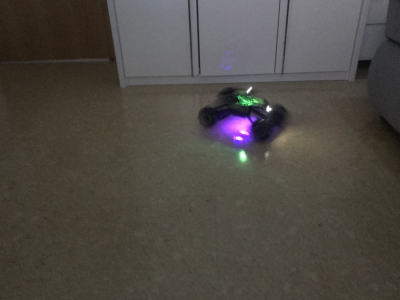remote control car: (198, 81, 290, 143)
